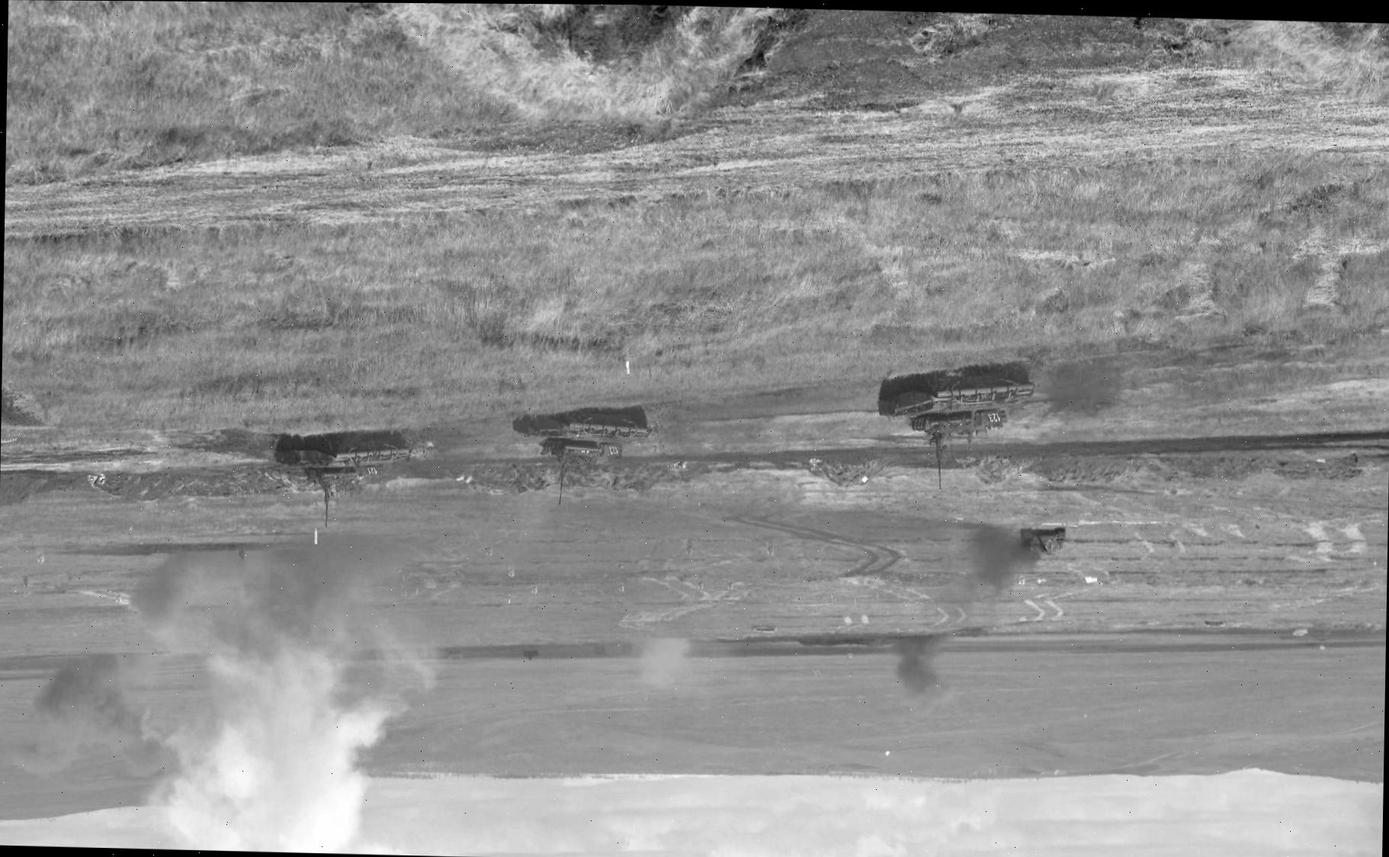tank: (874, 356, 1035, 448), (272, 424, 415, 492), (510, 399, 654, 465), (1016, 524, 1066, 556), (520, 645, 539, 662)
